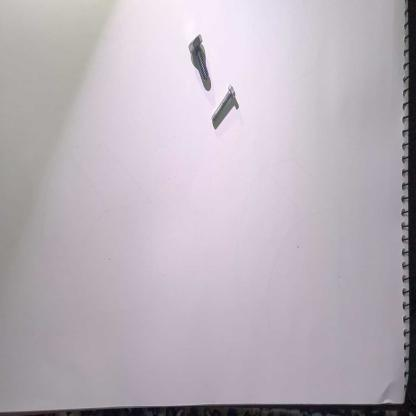Bolts: (187, 31, 214, 90), (208, 84, 240, 127)
